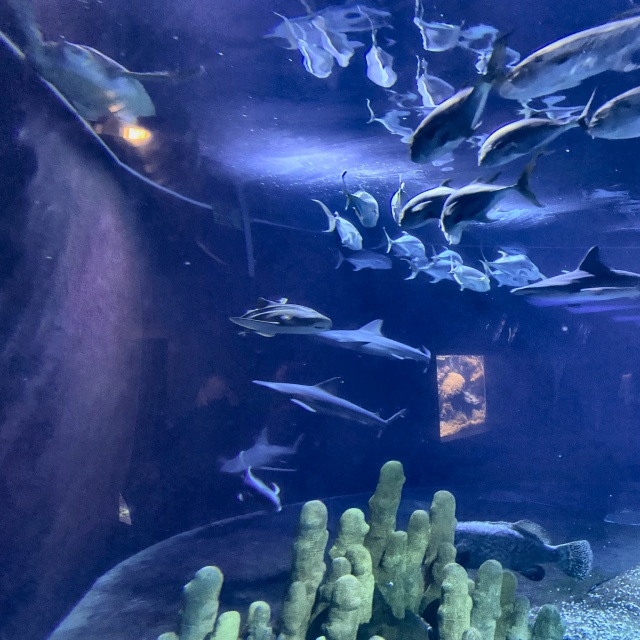fish: (411, 29, 513, 165), (497, 28, 639, 101), (478, 88, 595, 168), (453, 519, 592, 582), (442, 153, 546, 233), (398, 179, 509, 231), (589, 85, 639, 140), (311, 199, 362, 251), (237, 466, 282, 514), (341, 172, 379, 228), (479, 247, 540, 281), (330, 244, 392, 271), (400, 257, 459, 283), (450, 255, 491, 292), (478, 259, 529, 288), (382, 228, 425, 255), (430, 245, 463, 265)
shark: (243, 376, 407, 440), (510, 246, 639, 316), (319, 317, 433, 370), (230, 297, 333, 338), (220, 426, 300, 475)
